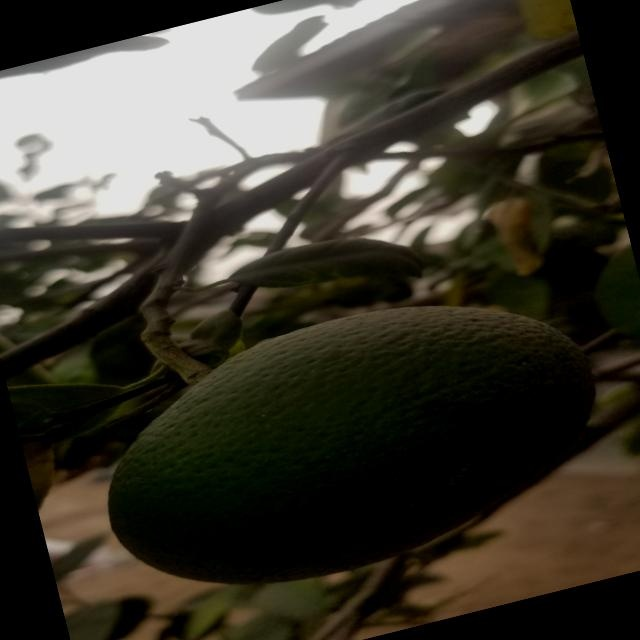agrume: (82, 263, 611, 620)
